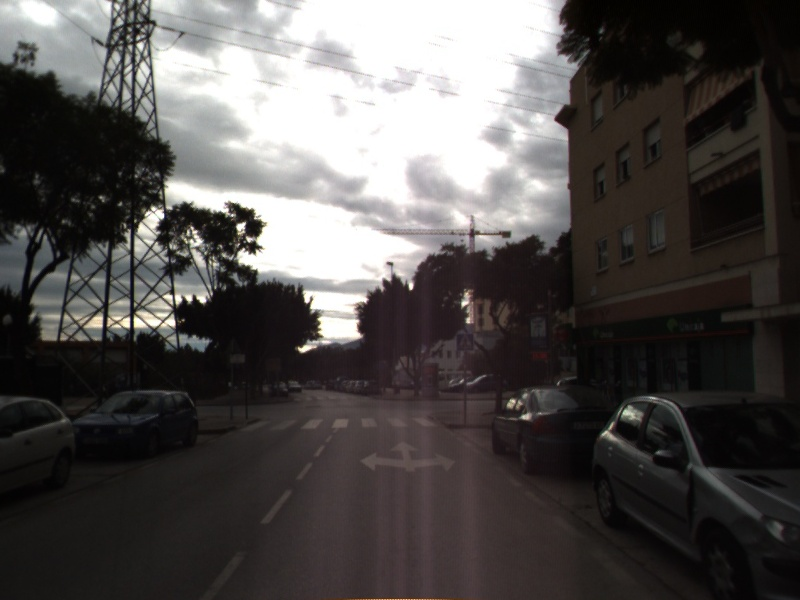STRAIGHT_LEFT_RIGHT: (358, 439, 458, 474)
